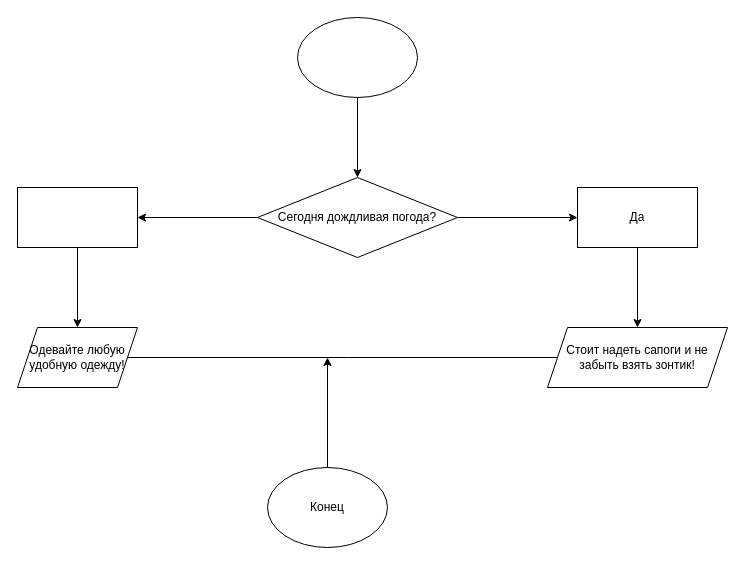
Image size: 745x565. Some labels were removed from this diagram. Each missing label, with the centre of its shape:
"Начало" belongs at pixel 357 57.
"Нет" belongs at pixel 77 217.
